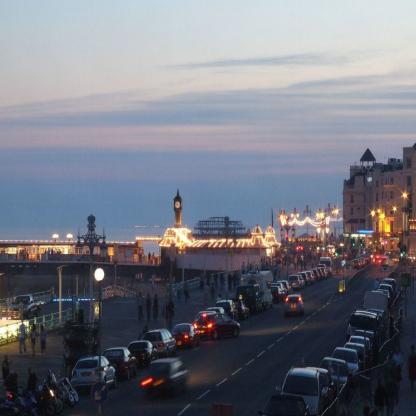Car: (69, 254, 337, 389), (258, 272, 403, 416), (105, 299, 251, 381), (272, 264, 328, 305), (75, 360, 121, 404), (148, 354, 191, 392), (351, 248, 416, 269), (284, 294, 307, 317), (317, 245, 326, 252), (329, 246, 336, 254), (328, 252, 335, 258), (340, 254, 349, 258)
